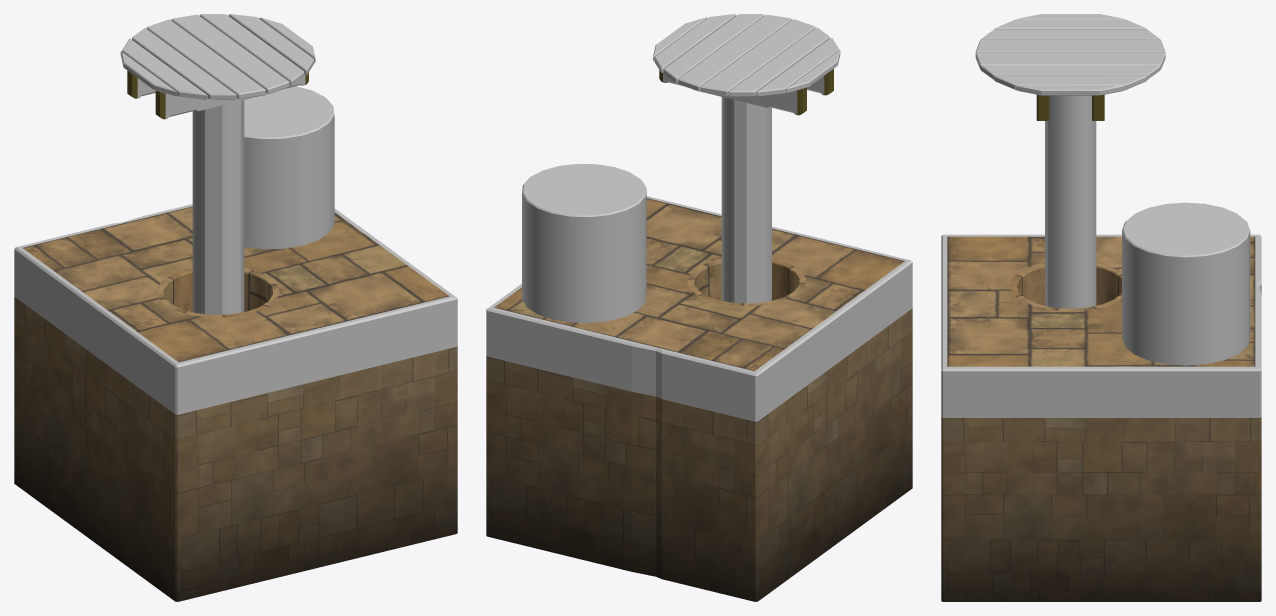
Rendered from PlatformStack3.fbx.
The picture shows the model from 3 angles, left to right: view 1: azimuth 30°, elevation 25°; view 2: azimuth 150°, elevation 25°; view 3: azimuth 270°, elevation 25°; orthographic projection. The views are drawn at different scales.
Parts seen in each view (by area): view 1: PlatformStack3, PlatformSpin, ColumnSmall; view 2: PlatformStack3, PlatformSpin, ColumnSmall; view 3: PlatformStack3, PlatformSpin, ColumnSmall.
Boxes of the visible parts, x1,y1,x2,y2 form: PlatformStack3: [14, 204, 457, 601]; PlatformSpin: [120, 14, 315, 314]; ColumnSmall: [244, 86, 334, 249]; PlatformStack3: [486, 196, 912, 601]; PlatformSpin: [653, 14, 840, 303]; ColumnSmall: [522, 163, 646, 322]; PlatformStack3: [941, 234, 1261, 601]; PlatformSpin: [975, 14, 1165, 308]; ColumnSmall: [1122, 202, 1250, 365].
Size of what is drawn, in the model's own units: 500 by 802 by 500.
